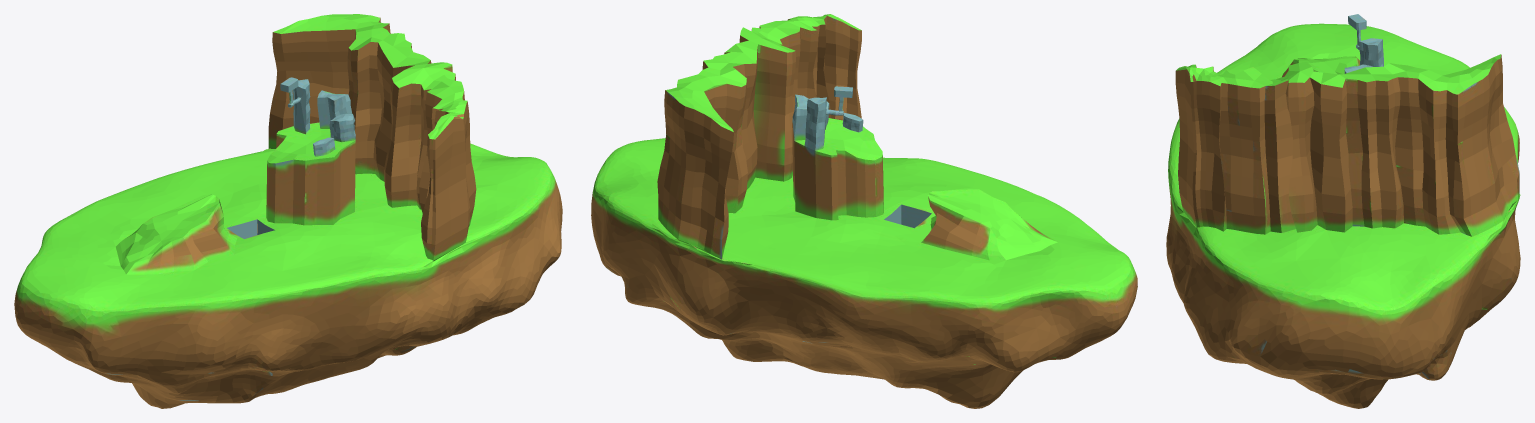
File: Final Island.fbx
3 views of the same model, side by side, from view 1: azimuth 30°, elevation 25°; view 2: azimuth 150°, elevation 25°; view 3: azimuth 270°, elevation 25° (orthographic). The views are drawn at different scales.
Parts seen in each view (by area): view 1: Icosphere; view 2: Icosphere; view 3: Icosphere.
Part boxes in pixels (x1,y1,x2,y2): Icosphere: [14, 14, 562, 408]; Icosphere: [591, 14, 1137, 408]; Icosphere: [1166, 14, 1520, 408].
Bounding box in the file's own units: 15761 × 8659 × 8166.
